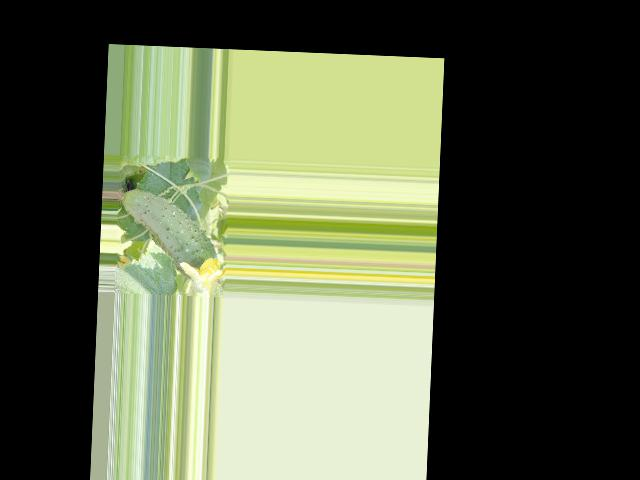cucumber: (114, 187, 219, 279)
